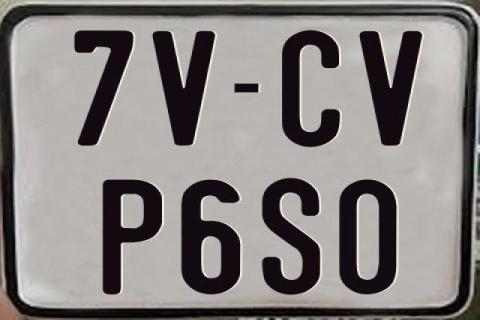0: (178, 178, 242, 298), (336, 178, 400, 294), (72, 28, 135, 144)
C: (282, 30, 340, 152)
P: (101, 178, 163, 296)
S: (262, 177, 321, 299)
V: (356, 31, 426, 149), (149, 29, 215, 149)
